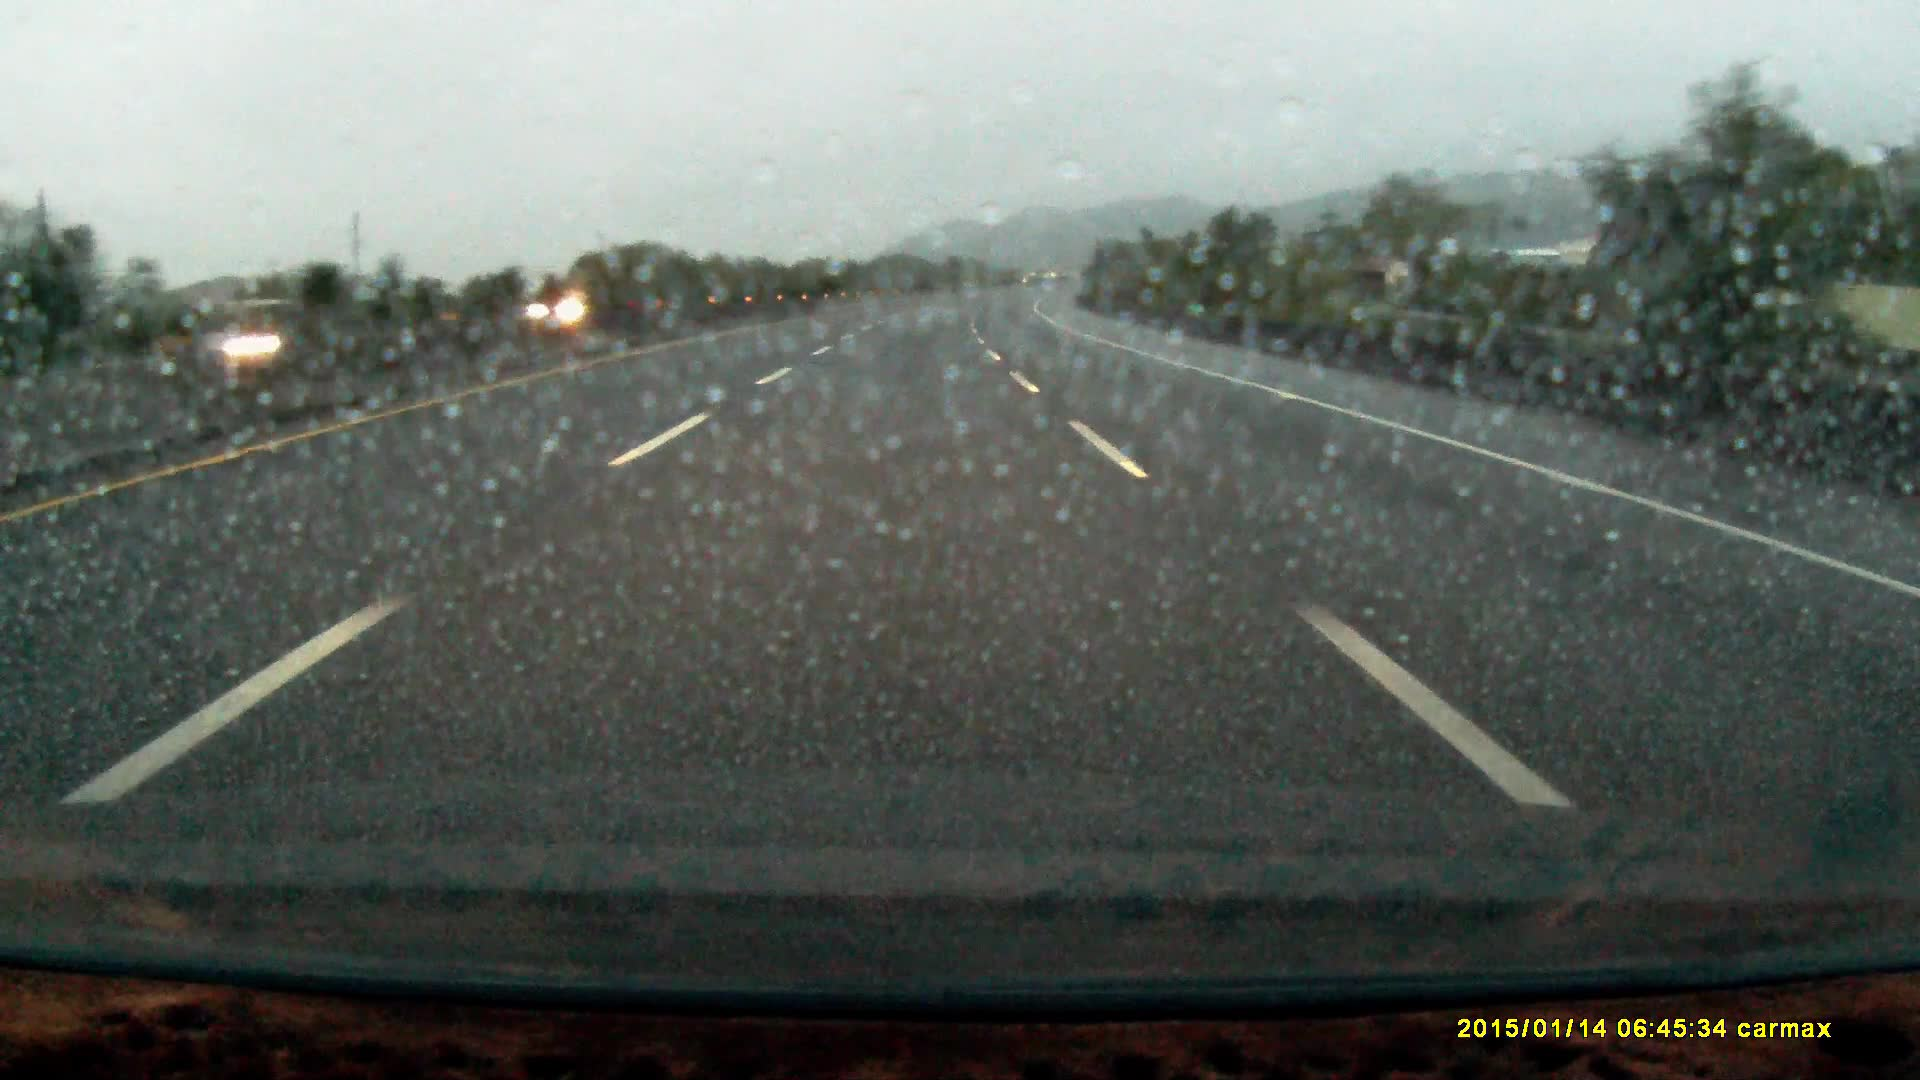vehicle: (146, 299, 352, 368), (524, 294, 605, 328)
